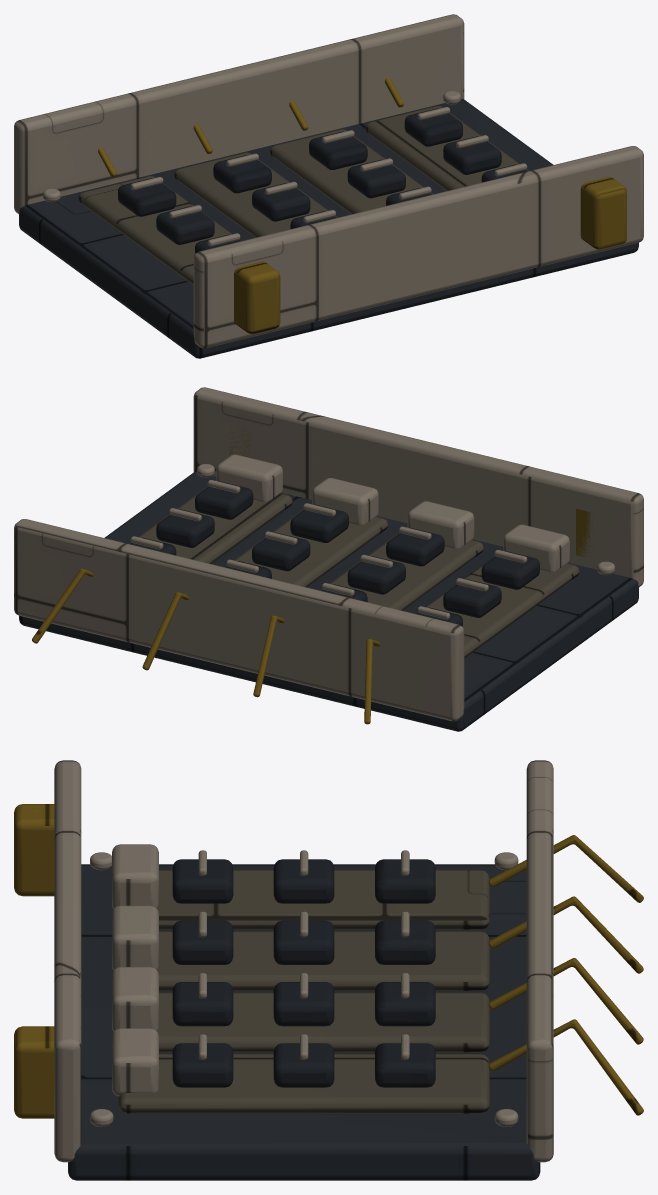
File: cargo-exposed-avionics-tray_lod0.glb
The picture shows the model from 3 angles, top to bottom: view 1: azimuth 30°, elevation 25°; view 2: azimuth 150°, elevation 25°; view 3: azimuth 270°, elevation 25°; orthographic projection. The views are drawn at different scales.
Parts seen in each view (by area): view 1: LOD0_BrushedMetal, LOD0_Armor, LOD0_Hull, LOD0_MechanicalDark, LOD0_Livery; view 2: LOD0_BrushedMetal, LOD0_Armor, LOD0_Hull, LOD0_MechanicalDark, LOD0_Livery; view 3: LOD0_Hull, LOD0_Armor, LOD0_BrushedMetal, LOD0_MechanicalDark, LOD0_Livery.
Boxes of the visible parts, x1,y1,x2,y2 form: LOD0_BrushedMetal: (14, 14, 643, 348); LOD0_Armor: (19, 99, 638, 358); LOD0_Hull: (78, 106, 528, 285); LOD0_MechanicalDark: (118, 108, 527, 253); LOD0_Livery: (98, 77, 626, 334); LOD0_BrushedMetal: (14, 387, 643, 721); LOD0_Armor: (19, 472, 638, 731); LOD0_Hull: (129, 480, 579, 658); LOD0_MechanicalDark: (130, 481, 539, 626); LOD0_Livery: (32, 429, 592, 724); LOD0_Hull: (118, 870, 489, 1113); LOD0_Armor: (68, 864, 540, 1180); LOD0_BrushedMetal: (54, 760, 553, 1162); LOD0_MechanicalDark: (172, 859, 435, 1087); LOD0_Livery: (14, 804, 643, 1118).
Bounding box in the file's own units: 2 × 0.46 × 1.87.
5 materials, 5 textured.
